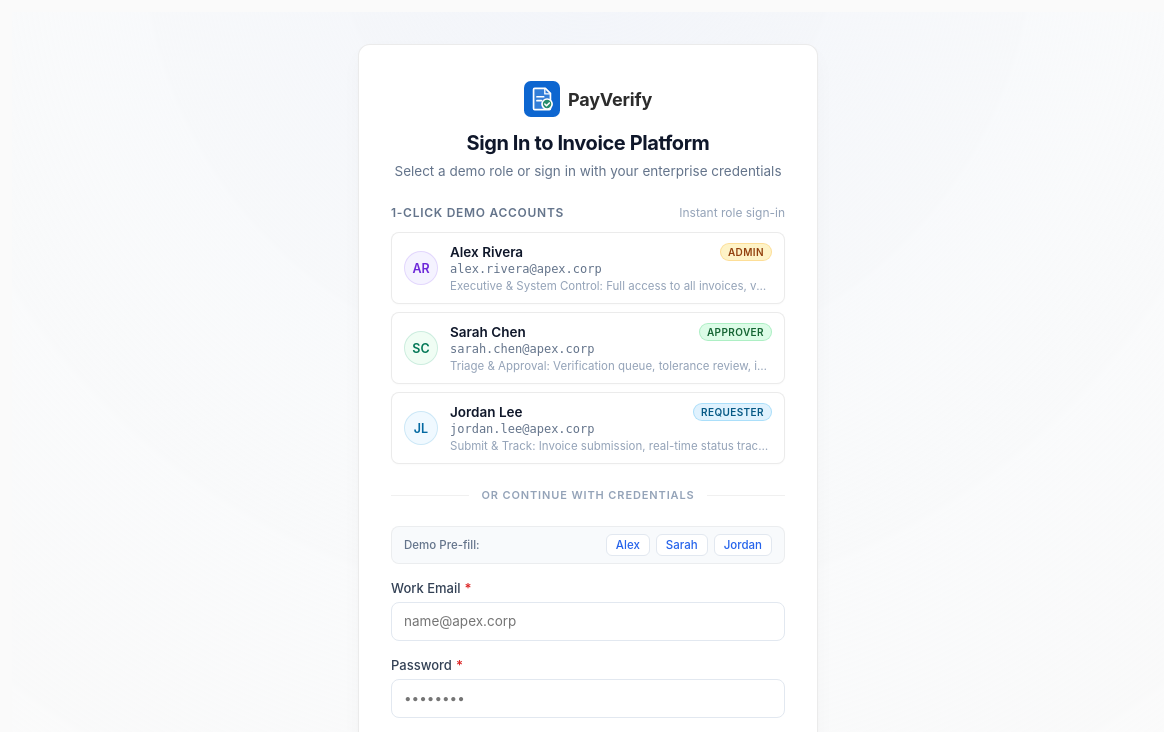
Scenario: LandingPage (PayVerify Enterprise Authentication Landing) › 1-Click Persona Sign-In Section › signs in as Approver in 1-click and preserves destination
Click the button with test id "quick-login-Approver" at (588, 348), box [391,312,785,384]
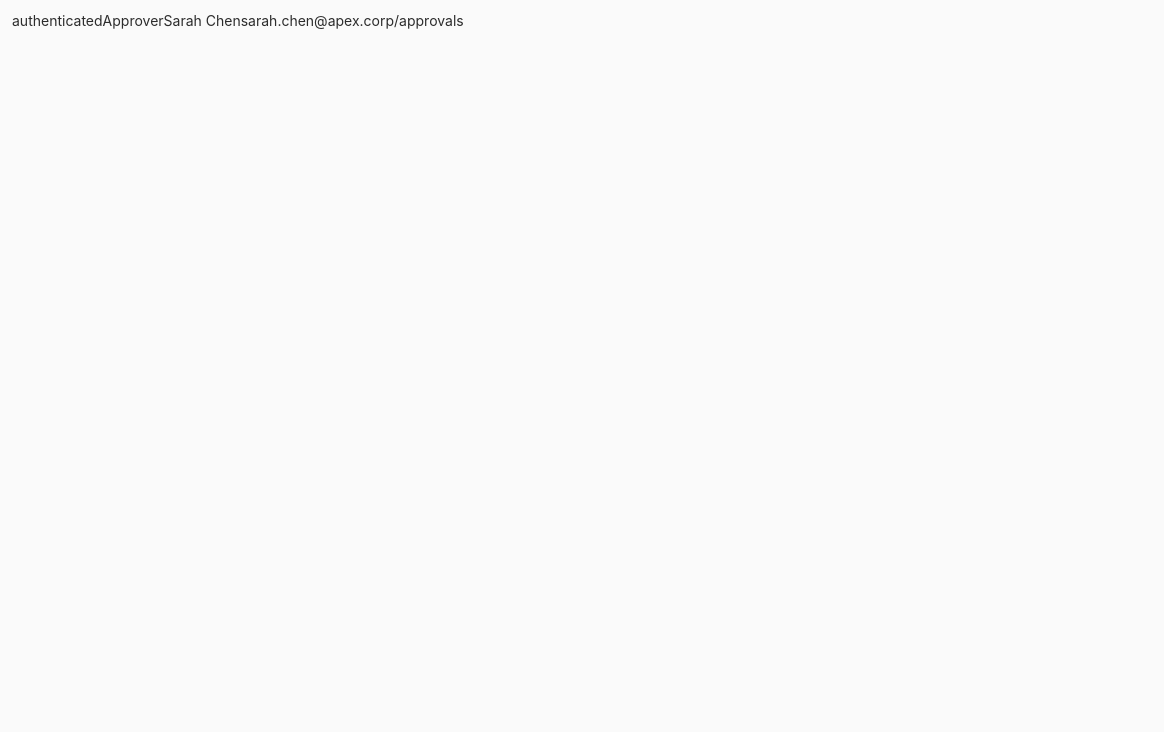
Expected: the text with test id "auth-role" reads "Approver", [103,12,164,29]
Result: the element with test id "approvals-view" is shown at [12,12,464,29]
